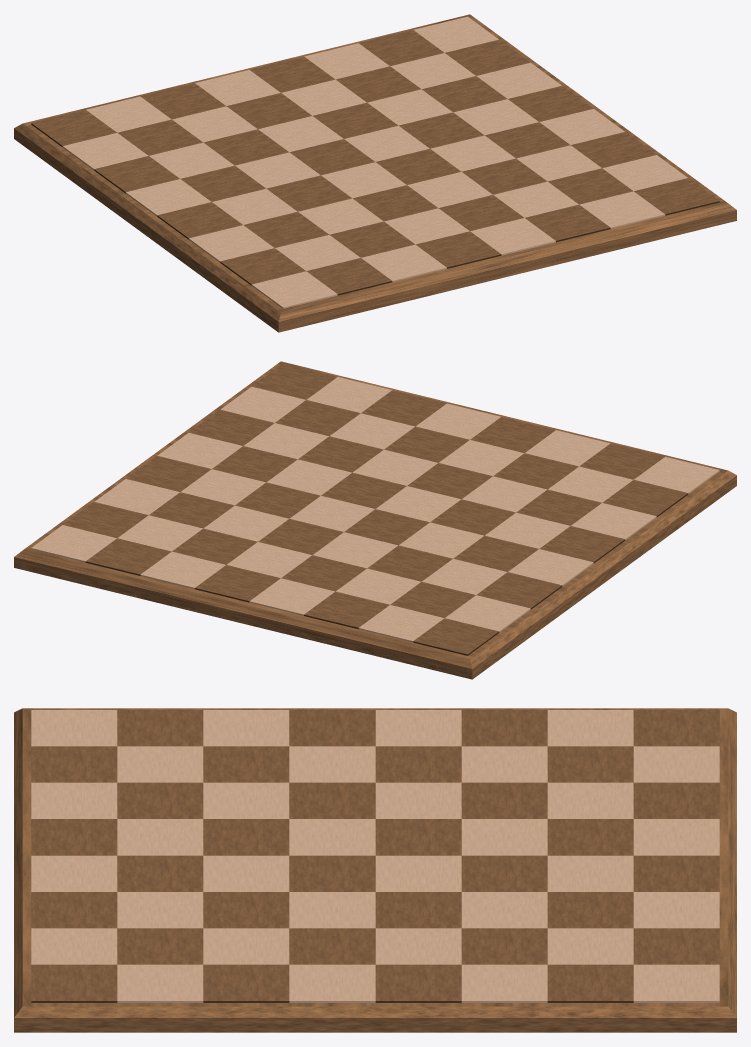
The model's file is ChessBoard.fbx.
3 renders of one model, top to bottom at view 1: azimuth 30°, elevation 25°; view 2: azimuth 150°, elevation 25°; view 3: azimuth 270°, elevation 25°, orthographic. The views are drawn at different scales.
Parts seen in each view (by area): view 1: Base, White, White.025, White.016, Black.008, Black.009, Black.032, White.020, Black.021, White.003, Black.006, White.002 (+53 smaller); view 2: Base, Black.003, Black.027, Black.014, White.011, White.006, White.030, Black.018, White.023, White.003, Black.006, Black.001 (+53 smaller); view 3: Base, White.022, Black.021, White.021, Black.022, Black.023, White.023, Black.024, White.024, White.005, Black.005, Black.006 (+53 smaller).
Part boxes in pixels (x1=…): Base: x1=14, y1=14, x2=736, y2=332; White: x1=251, y1=271, x2=337, y2=308; White.025: x1=579, y1=191, x2=665, y2=228; White.016: x1=361, y1=244, x2=446, y2=282; Black.008: x1=306, y1=258, x2=392, y2=295; Black.009: x1=416, y1=231, x2=501, y2=268; Black.032: x1=525, y1=204, x2=610, y2=242; White.020: x1=470, y1=218, x2=555, y2=255; Black.021: x1=634, y1=178, x2=719, y2=215; White.003: x1=125, y1=179, x2=211, y2=216; Black.006: x1=157, y1=202, x2=242, y2=239; White.002: x1=188, y1=225, x2=274, y2=262; Base: x1=14, y1=361, x2=736, y2=679; Black.003: x1=413, y1=618, x2=499, y2=655; Black.027: x1=85, y1=538, x2=171, y2=575; Black.014: x1=304, y1=591, x2=389, y2=629; White.011: x1=249, y1=578, x2=334, y2=615; White.006: x1=358, y1=605, x2=444, y2=642; White.030: x1=140, y1=551, x2=225, y2=589; Black.018: x1=195, y1=565, x2=280, y2=602; White.023: x1=31, y1=525, x2=116, y2=562; White.003: x1=508, y1=549, x2=593, y2=586; Black.006: x1=539, y1=526, x2=625, y2=563; Black.001: x1=602, y1=480, x2=688, y2=517; Base: x1=14, y1=708, x2=736, y2=1032; White.022: x1=289, y1=964, x2=375, y2=1002; Black.021: x1=31, y1=964, x2=117, y2=1002; White.021: x1=117, y1=964, x2=203, y2=1002; Black.022: x1=203, y1=964, x2=289, y2=1002; Black.023: x1=375, y1=964, x2=461, y2=1002; White.023: x1=633, y1=964, x2=719, y2=1002; Black.024: x1=547, y1=964, x2=633, y2=1002; White.024: x1=461, y1=964, x2=547, y2=1002; White.005: x1=461, y1=746, x2=547, y2=782; Black.005: x1=547, y1=746, x2=633, y2=782; Black.006: x1=289, y1=710, x2=375, y2=746.
Size of what is drawn, in the model's own units: 3360 by 125 by 3360.
Materials: 5 (5 with a texture image).
